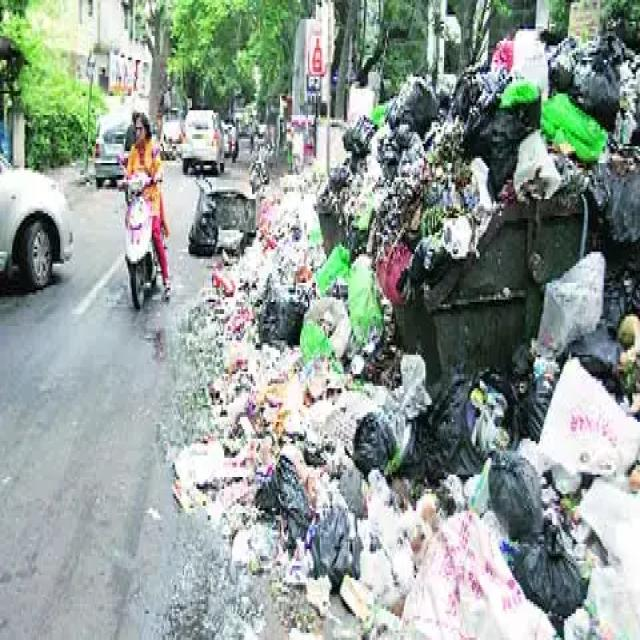garbage: (176, 23, 640, 640)
